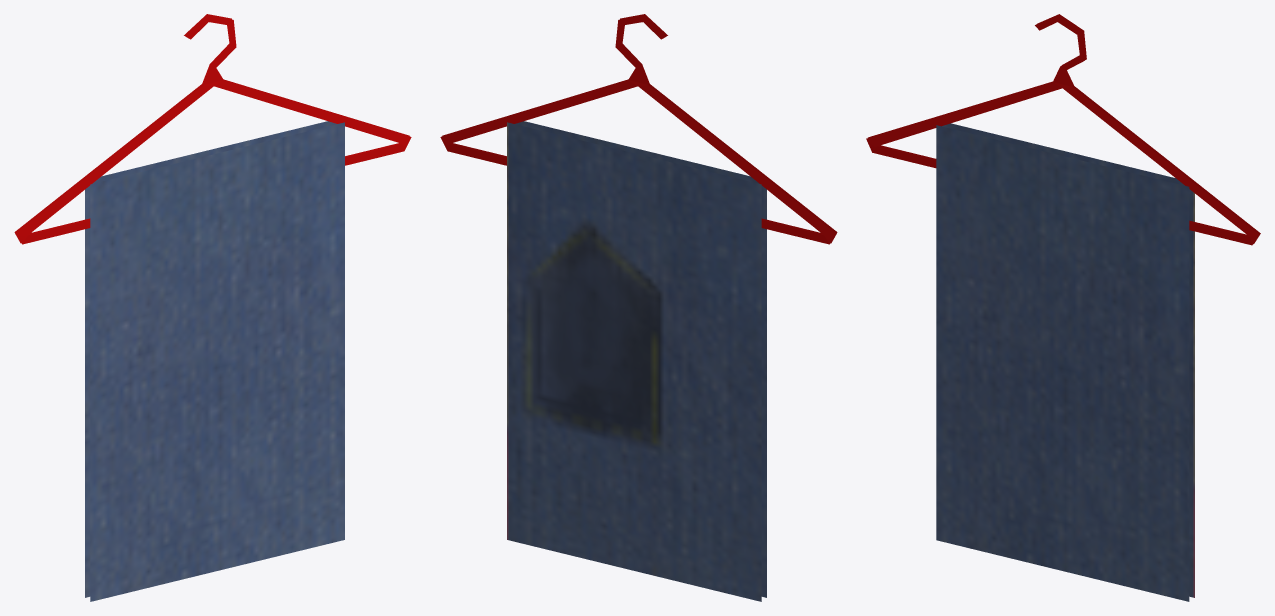
The model's file is Pants_2.fbx.
3 renders of one model, left to right at view 1: azimuth 30°, elevation 25°; view 2: azimuth 150°, elevation 25°; view 3: azimuth 330°, elevation 25°, orthographic.
Visible parts, largest first — view 1: Maya_File_Assets:TexturedAssetsCurrent:EliesAsstsTextures:Ti; view 2: Maya_File_Assets:TexturedAssetsCurrent:EliesAsstsTextures:Ti; view 3: Maya_File_Assets:TexturedAssetsCurrent:EliesAsstsTextures:Ti.
Part boxes in pixels (left/top/right/bottom): Maya_File_Assets:TexturedAssetsCurrent:EliesAsstsTextures:Ti: left=14, top=14, right=411, bottom=601; Maya_File_Assets:TexturedAssetsCurrent:EliesAsstsTextures:Ti: left=440, top=14, right=837, bottom=601; Maya_File_Assets:TexturedAssetsCurrent:EliesAsstsTextures:Ti: left=866, top=14, right=1260, bottom=601.
Size of the model in its own units: 0.5851 by 0.7858 by 0.0141.
